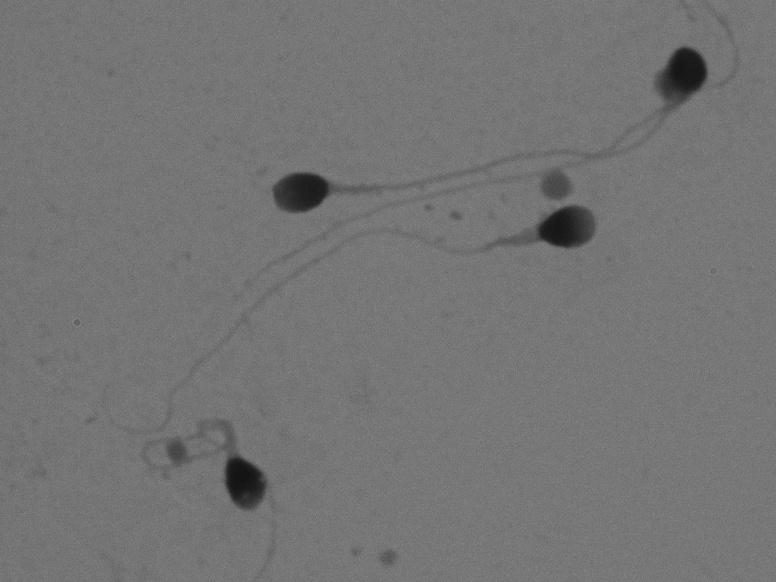Abnormal: (84, 193, 630, 448), (416, 24, 708, 204), (113, 398, 336, 554)
Normal: (255, 88, 654, 239)
